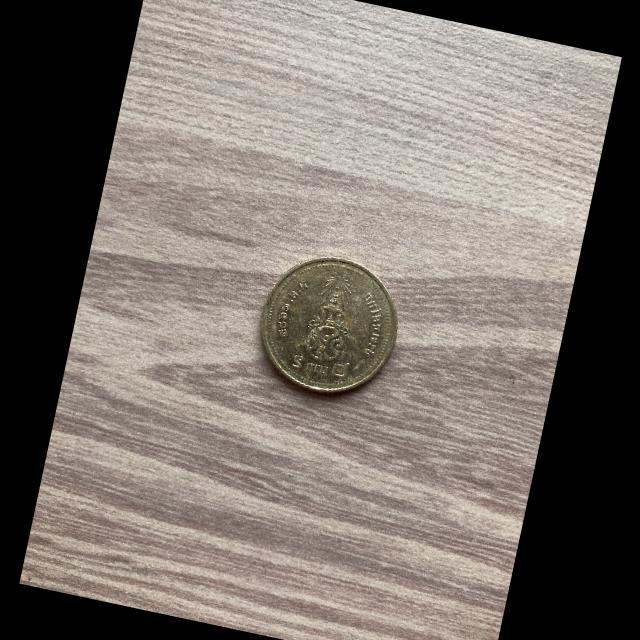2 Bath: (261, 254, 402, 400)
